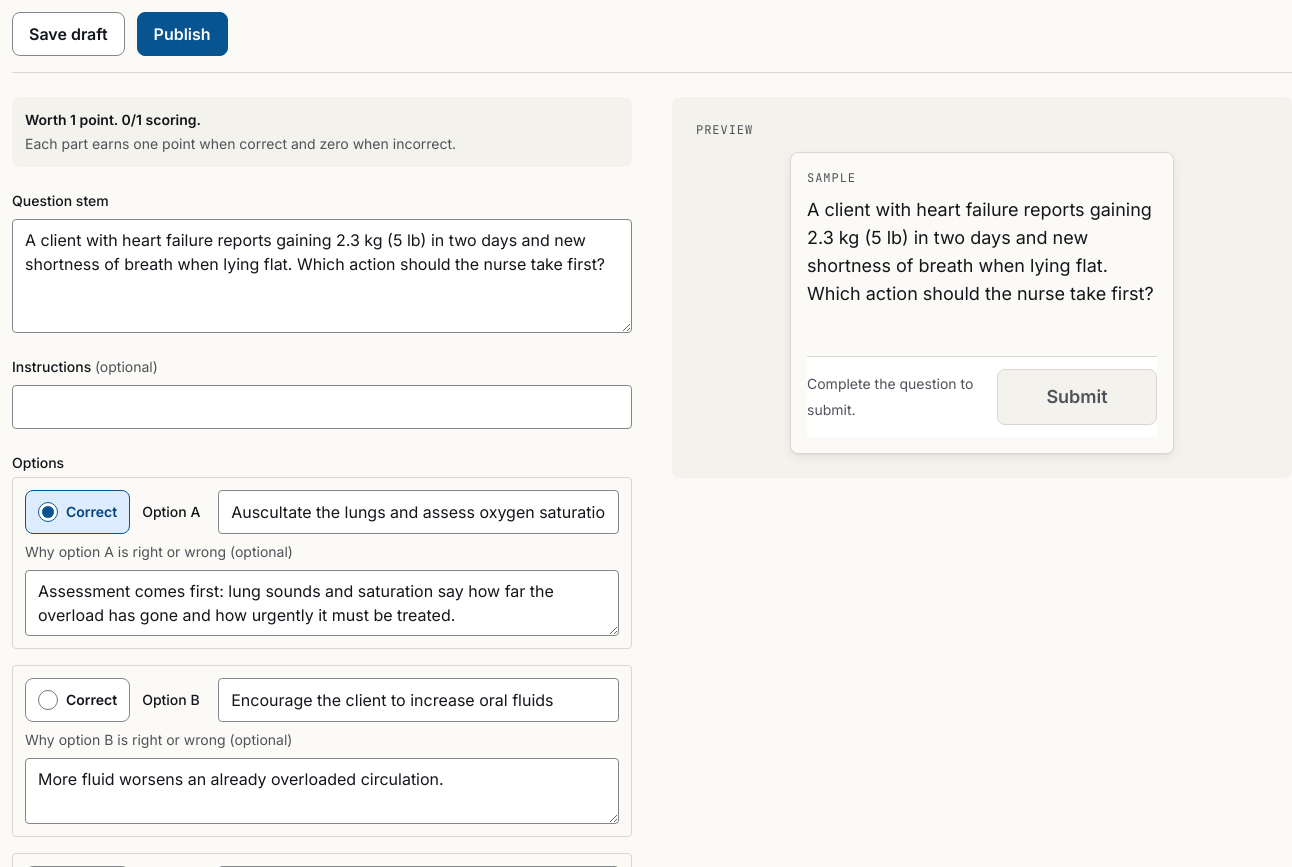
Scenario: EditorShell's save message › goes once the author changes the item again, leaving only Unsaved changes
The image size is (1292, 867).
Click the button "Save draft" at (68, 34), box [12, 12, 125, 56]
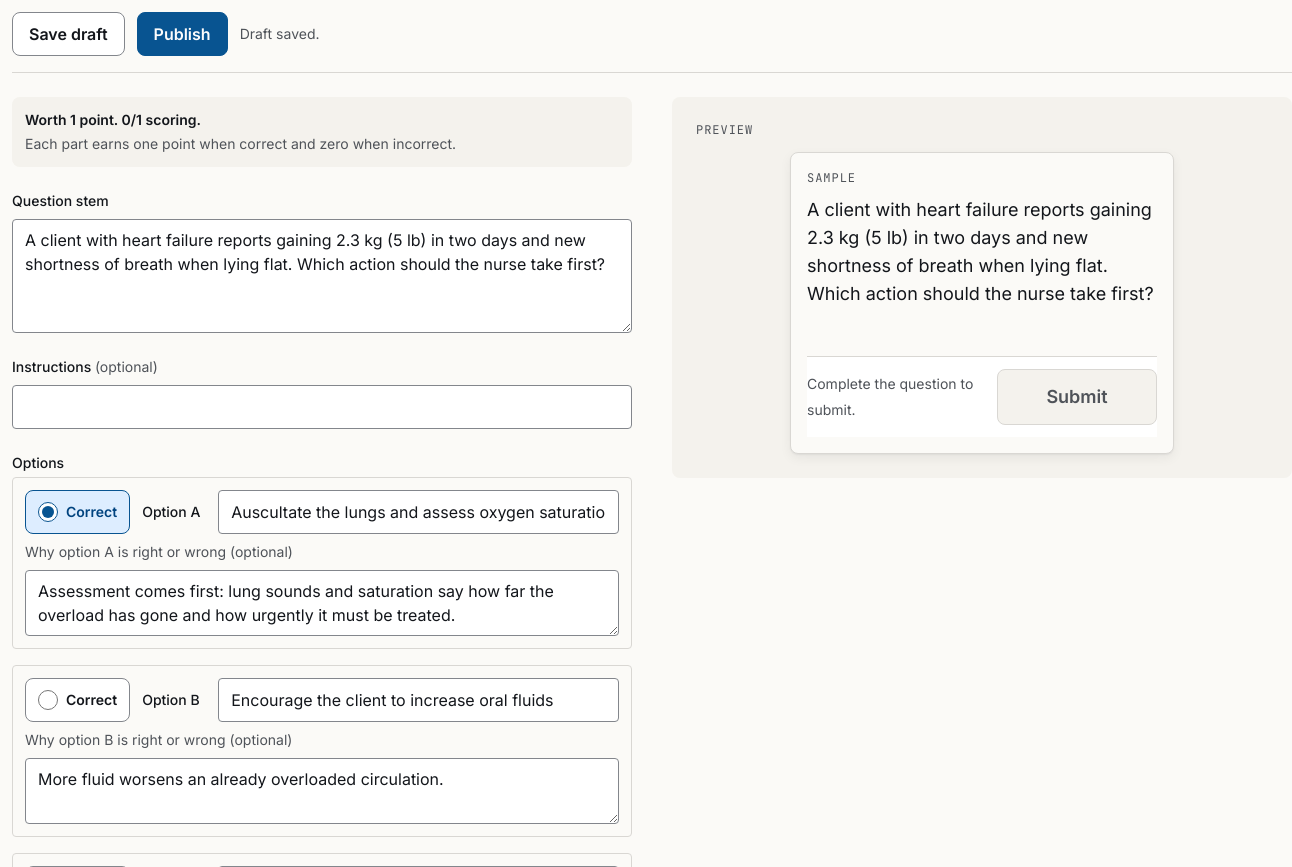
Expected: the text "Draft saved." is shown, [240, 24, 320, 44]
Type " more" into the text box labelled "Question stem" at (322, 276), box [12, 219, 632, 333]
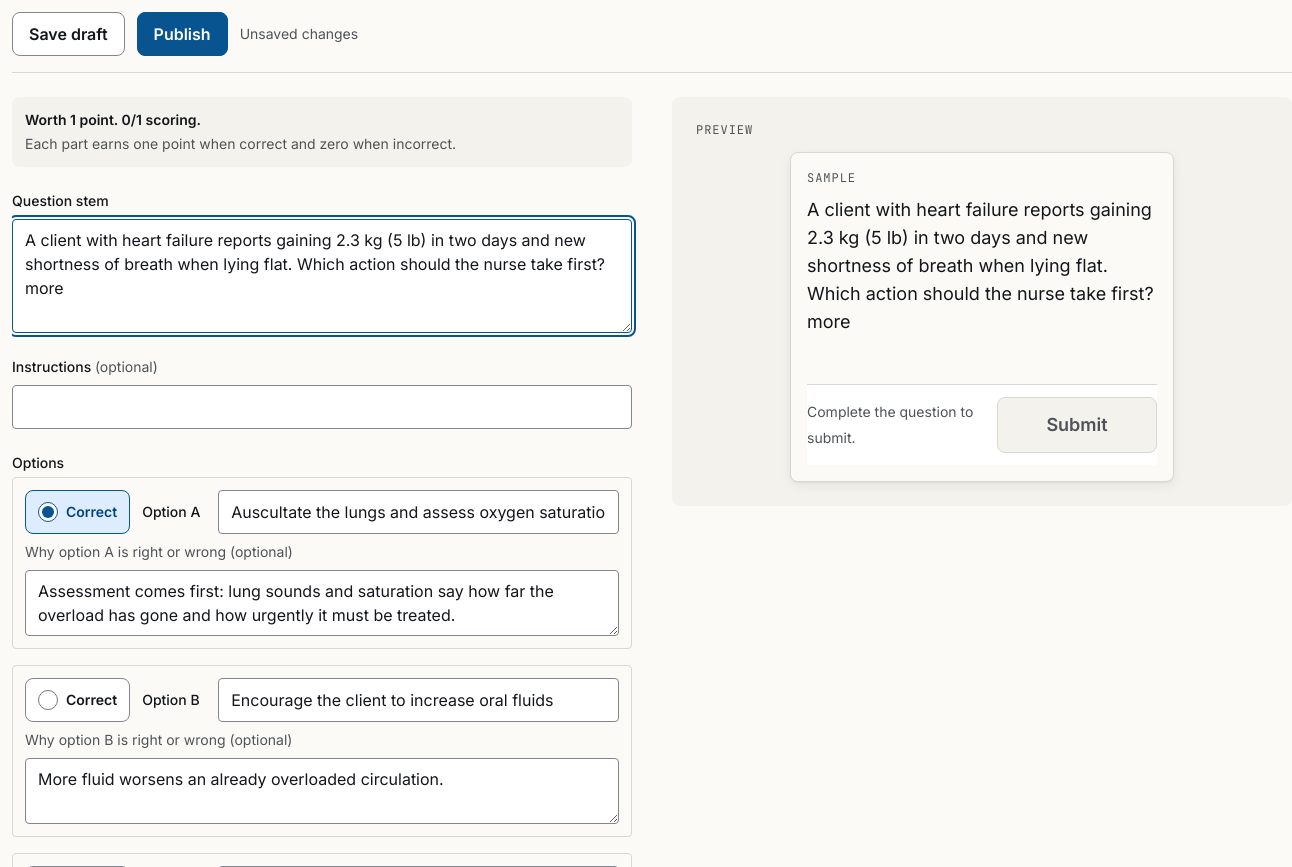
Expected: the text "Unsaved changes" is shown, [240, 24, 358, 44]
Expected: the text "Draft saved." is gone
